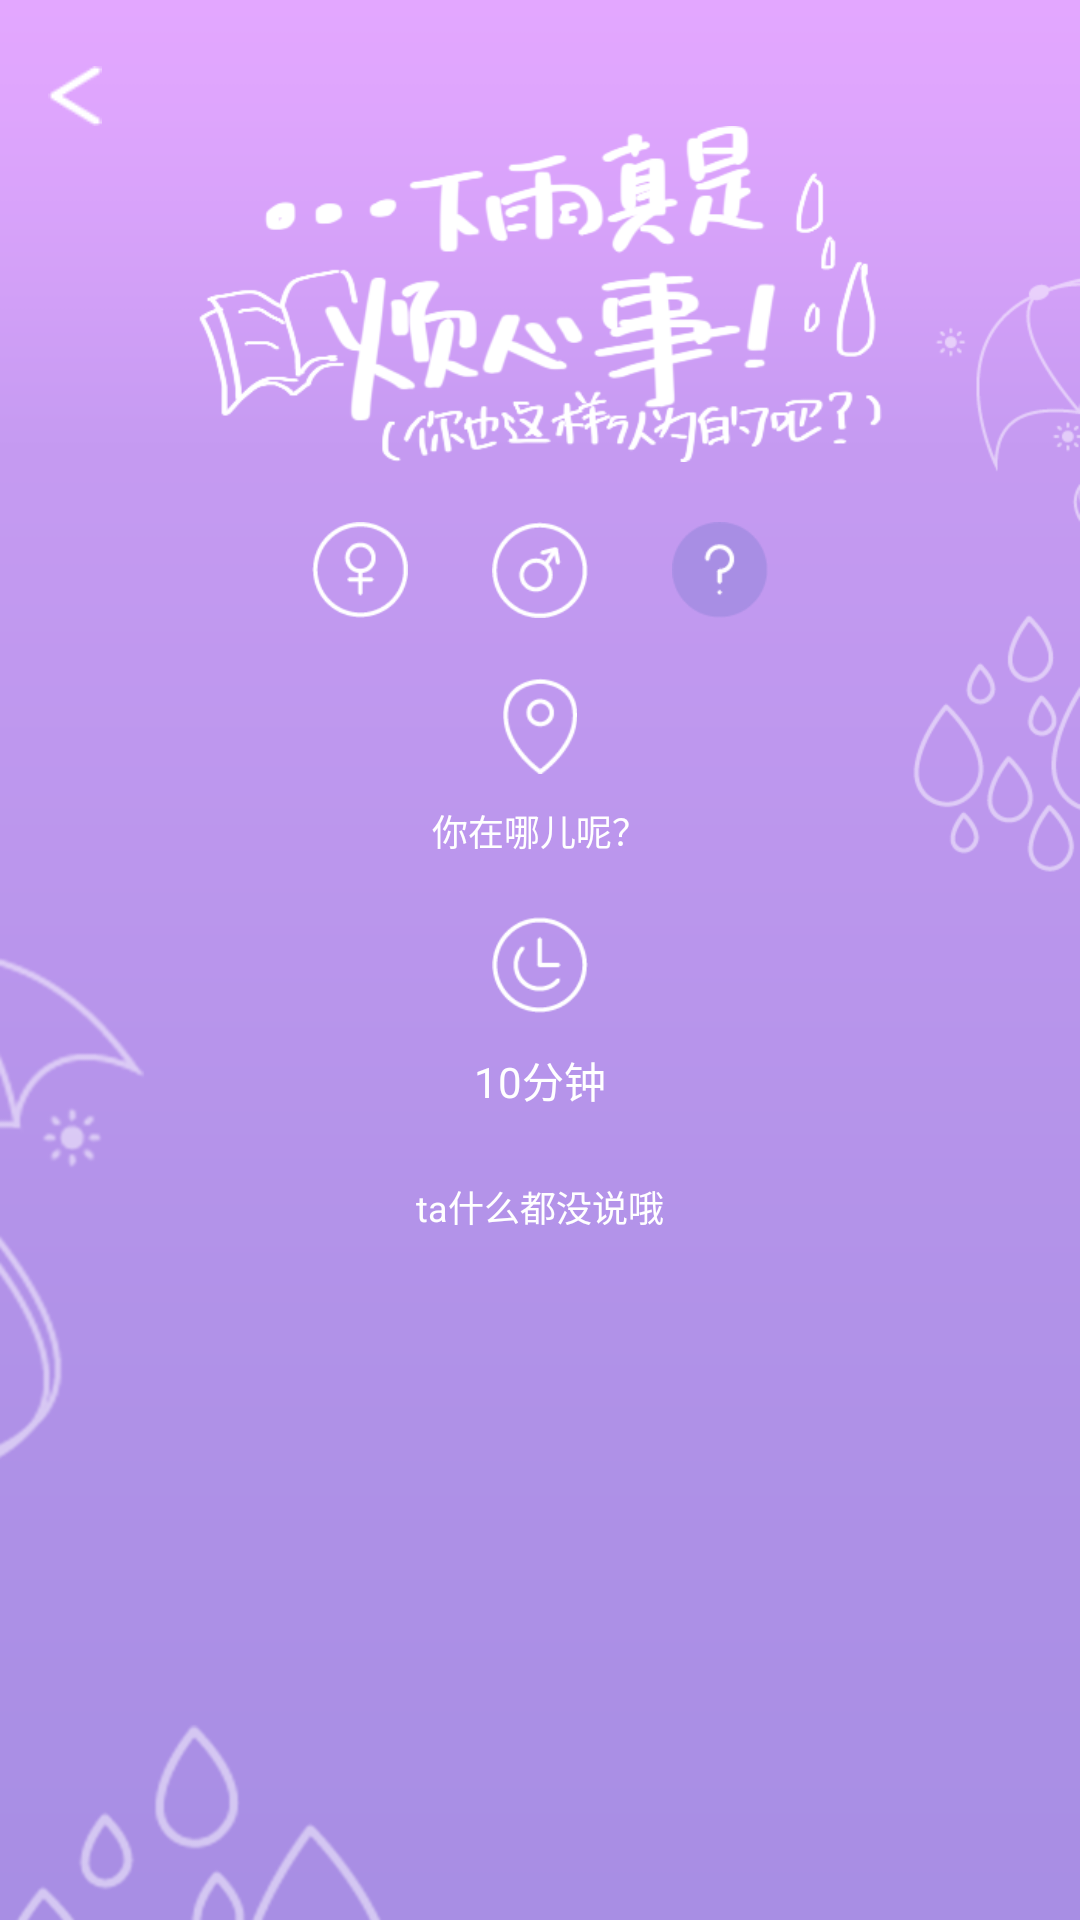

Icon click points for this 1080px x 1920px phone screenshot, format point (x, y):
addboy: point (540, 570)
addgirl: point (360, 570)
addsecretc: point (719, 569)
iconplace: point (540, 726)
icontime: point (540, 965)
returna: point (76, 95)
